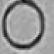no answer: (2, 0, 45, 51)
